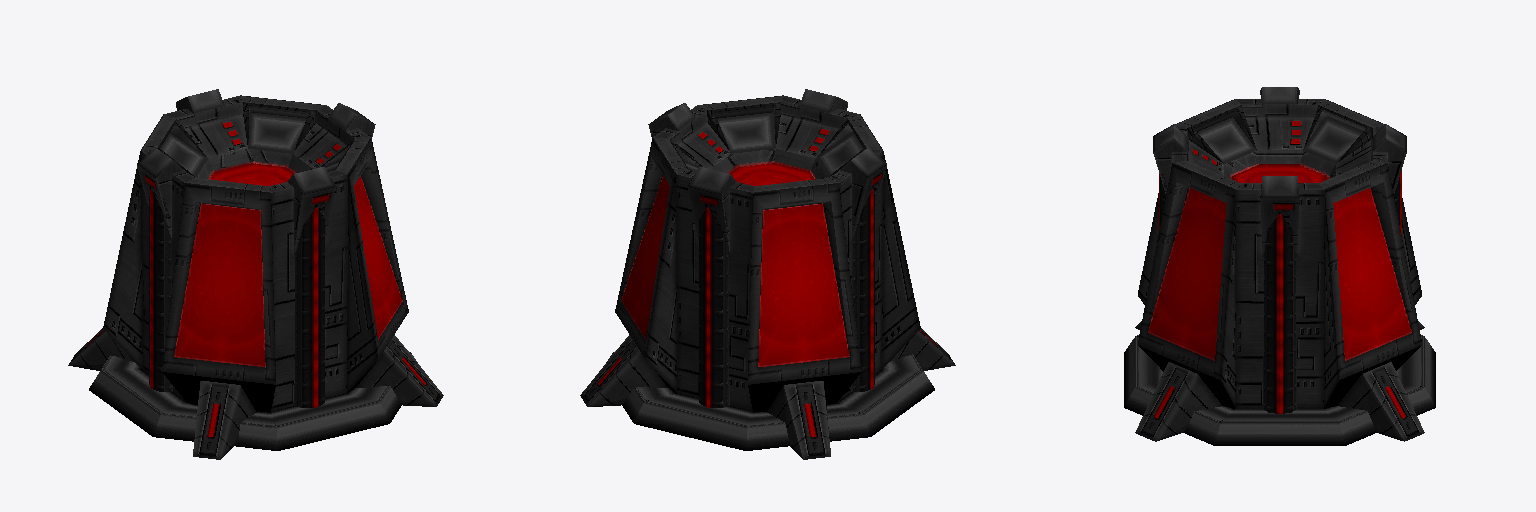
3 renders of one model, left to right at view 1: azimuth 30°, elevation 25°; view 2: azimuth 150°, elevation 25°; view 3: azimuth 270°, elevation 25°, orthographic.
Bounding box in the file's own units: 23.2 × 20.41 × 23.2.
1 materials, 1 textured.